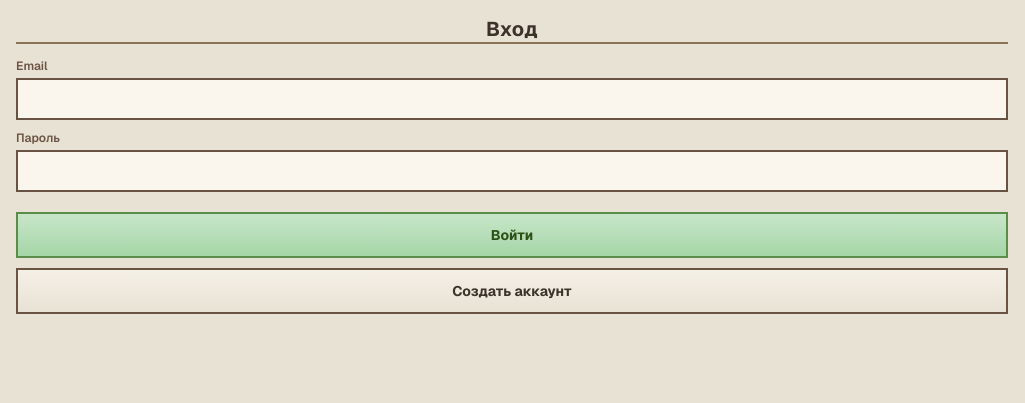
Test: LoginView › переключается в режим регистрации
The image size is (1025, 403).
Click the button "Создать аккаунт" at (512, 291), box top-left (16, 268), bottom-right (1008, 314)
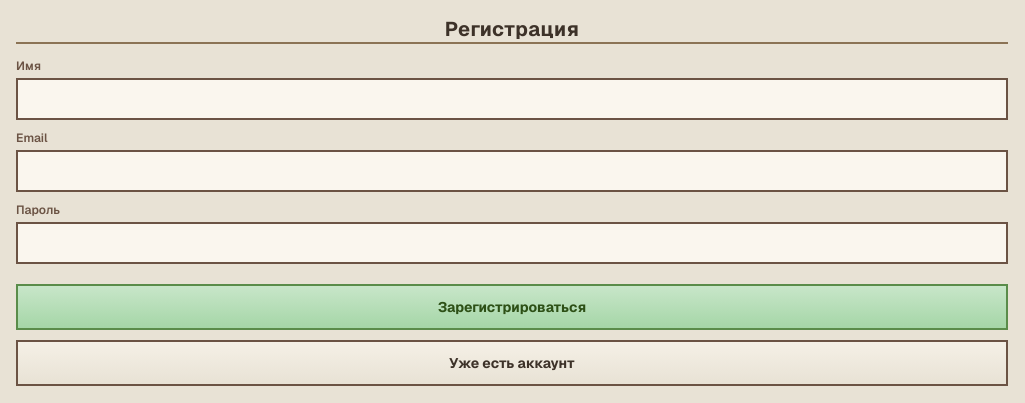
Expected: the field labelled "Имя" is shown, top-left (16, 78), bottom-right (1008, 120)
Result: the text "Регистрация" is shown at top-left (16, 16), bottom-right (1008, 44)
